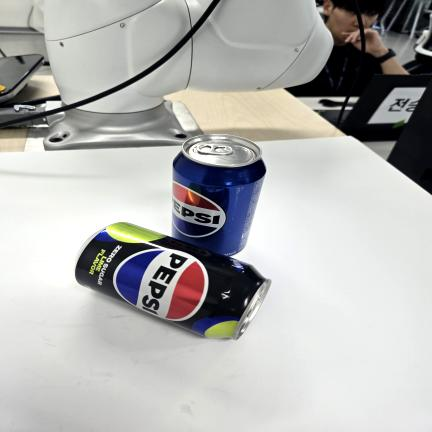can_pepsi: (171, 133, 266, 256)
can_pepsi_zero: (72, 222, 272, 339)
